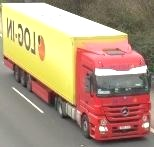truck: (2, 3, 151, 140)
